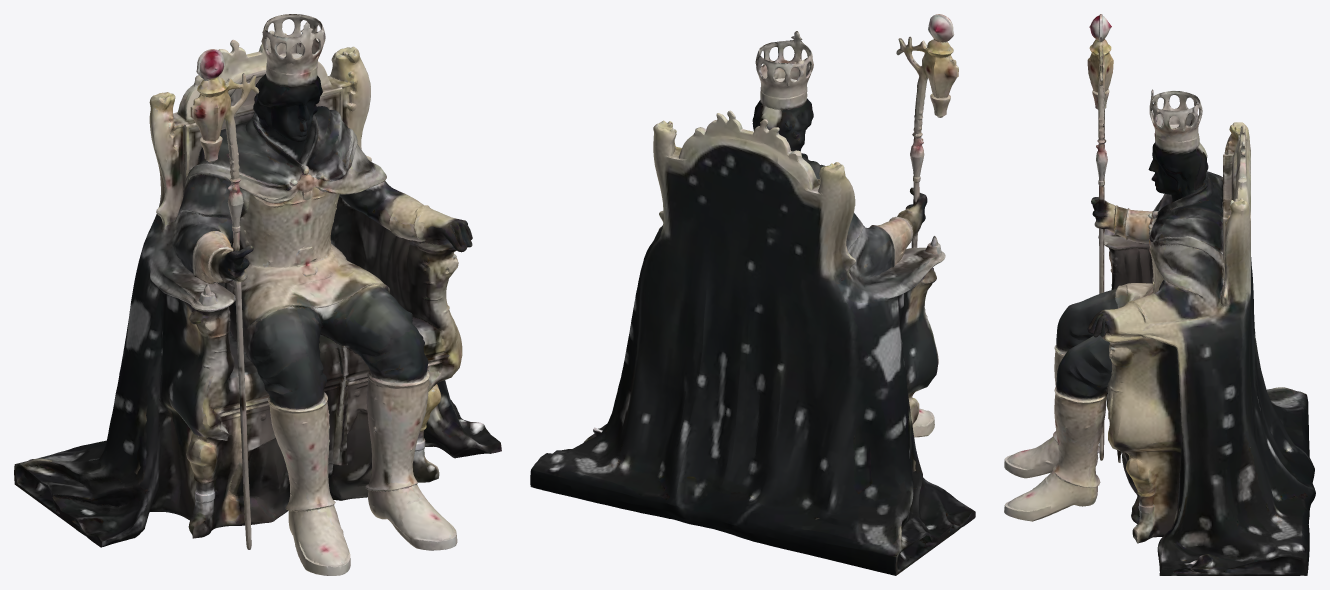
Rendered from king_black.glb.
3 views of the same model, side by side, from view 1: azimuth 30°, elevation 25°; view 2: azimuth 150°, elevation 25°; view 3: azimuth 270°, elevation 25° (orthographic). The views are drawn at different scales.
Visible parts, largest first — view 1: model; view 2: model; view 3: model.
Boxes of the visible parts, x1=… form: model: x1=14, y1=14, x2=501, y2=575; model: x1=530, y1=14, x2=975, y2=575; model: x1=1004, y1=14, x2=1315, y2=575.
Size of the model in its own units: 1.56 by 1.9 by 1.25.
1 material, 1 textured.
